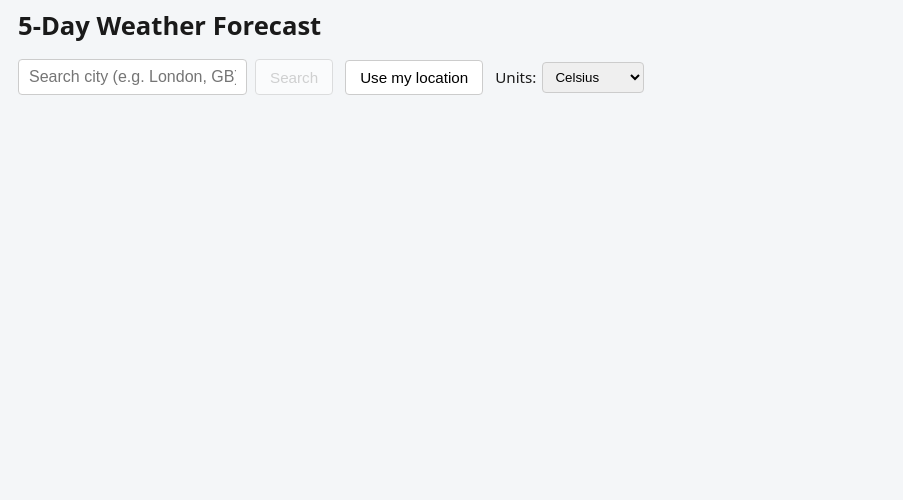
Test: App › changes display units without making another API request
The width and height of the screenshot is (903, 500).
In the field named "city name": (132, 77) 18,59 -> 247,95, type "Paris"
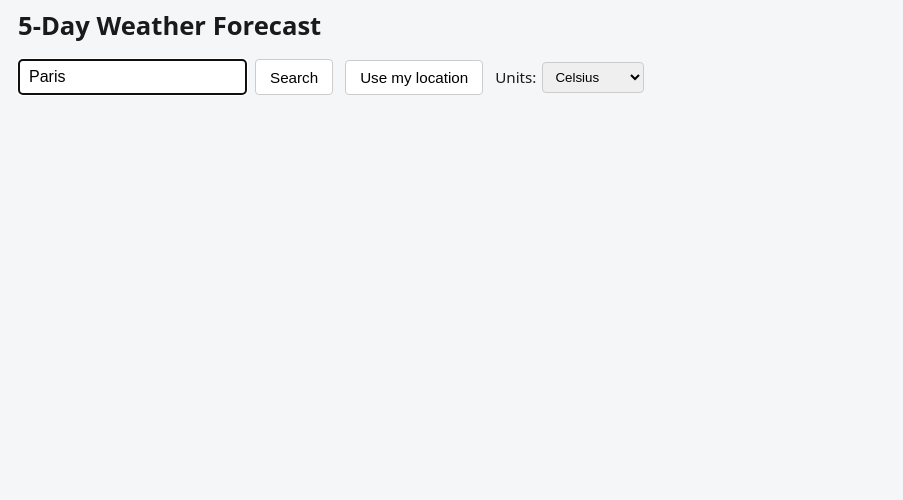
Click the button "Search": (294, 77) 255,59 -> 333,95
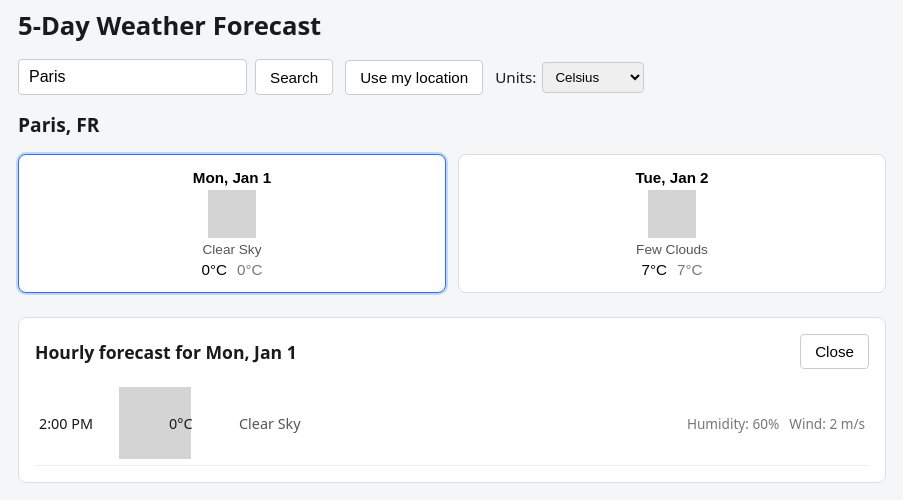
Expected: the heading "Paris, FR" is shown, 18,111 -> 99,138
Expected: the 1st text "0°C" is shown, 202,261 -> 227,278
Expected: the text "Wind: 2 m/s" is shown, 789,414 -> 865,433
Select "Fahrenheit" in the dropdown: (593, 77) 542,62 -> 644,93
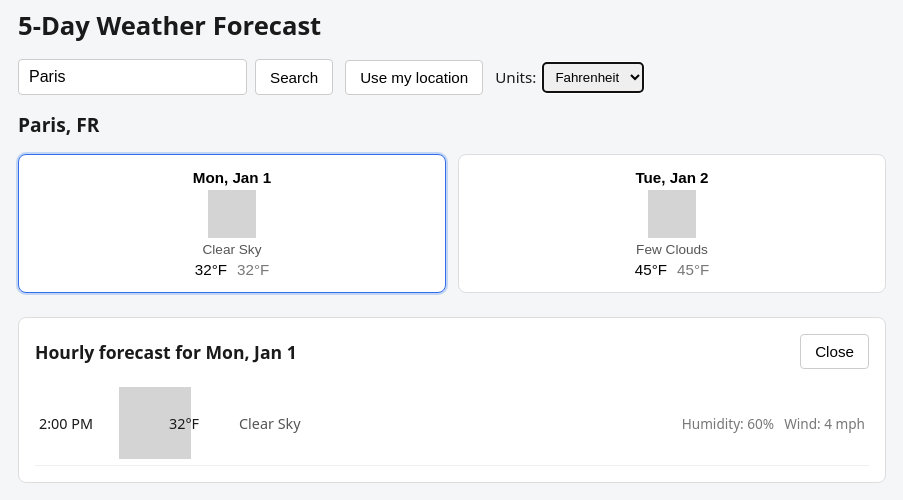
Expected: the 1st text "32°F" is shown, 195,261 -> 227,278
Expected: the text "Wind: 4 mph" is shown, 784,414 -> 865,433
Select "Kelvin" in the dropdown: (593, 77) 542,62 -> 644,93
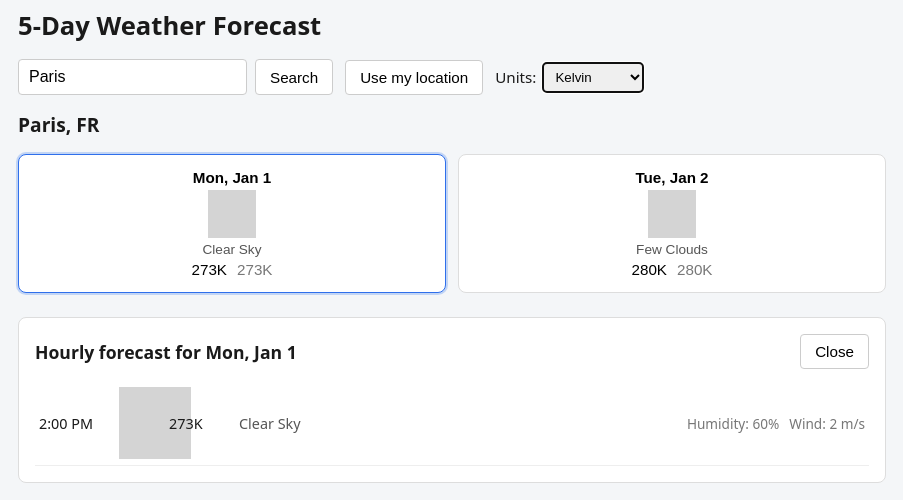
Expected: the 1st text "273K" is shown, 192,261 -> 227,278
